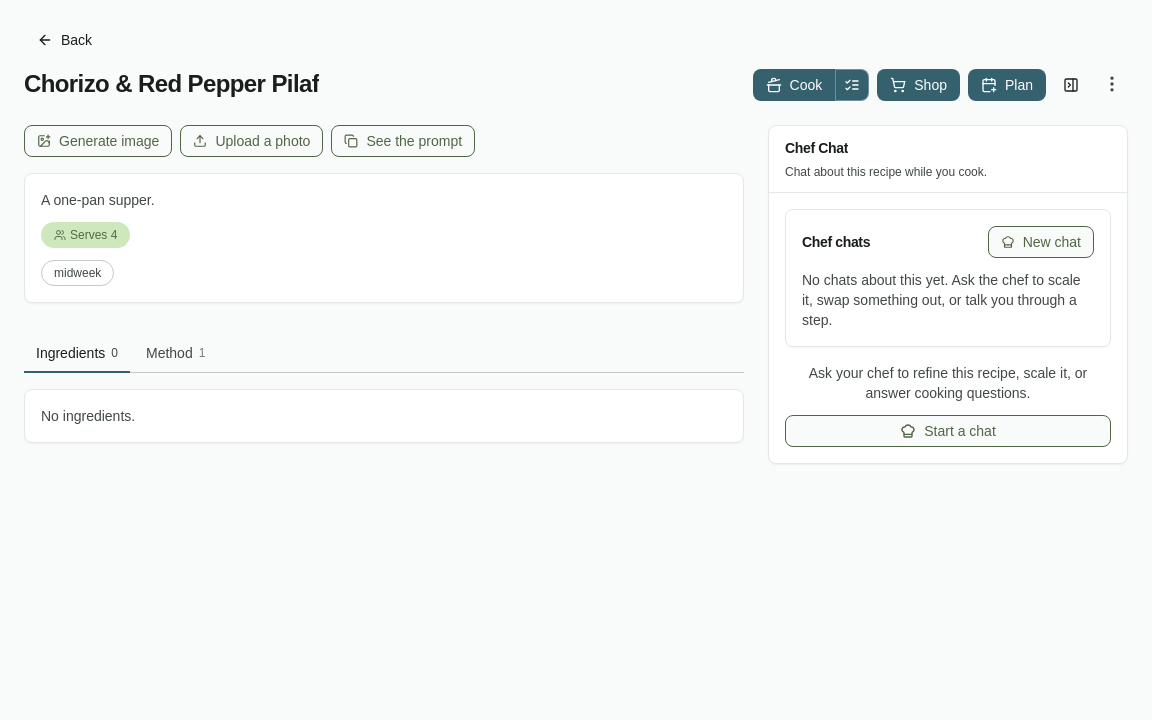
Test: RecipeViewPage — Refresh asks the chef, then proposes › discarding leaves the recipe exactly as it was, and keeps the plan
This screenshot has width=1152, height=720.
Click the button with test id "recipe-actions-overflow": (1112, 84) x1=1096 y1=68 x2=1128 y2=100
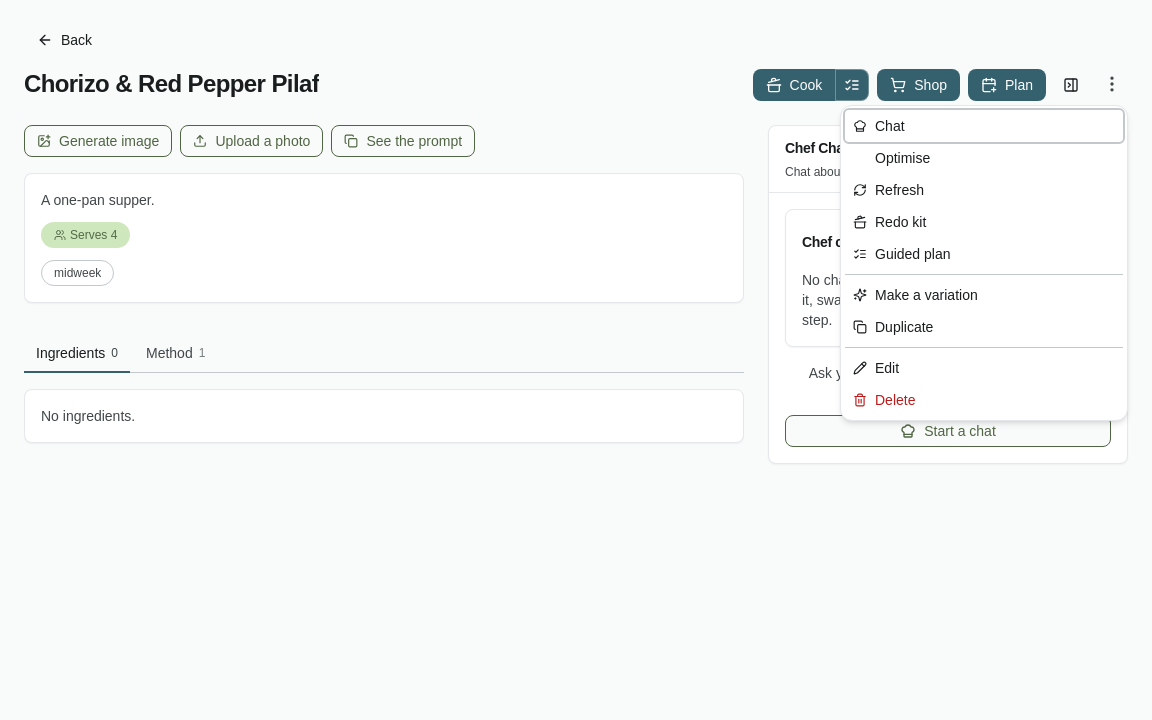
Expected: the button with test id "recipe-refresh-menu-item" is shown
Click the button with test id "recipe-refresh-menu-item": (900, 190) x1=845 y1=174 x2=1123 y2=206
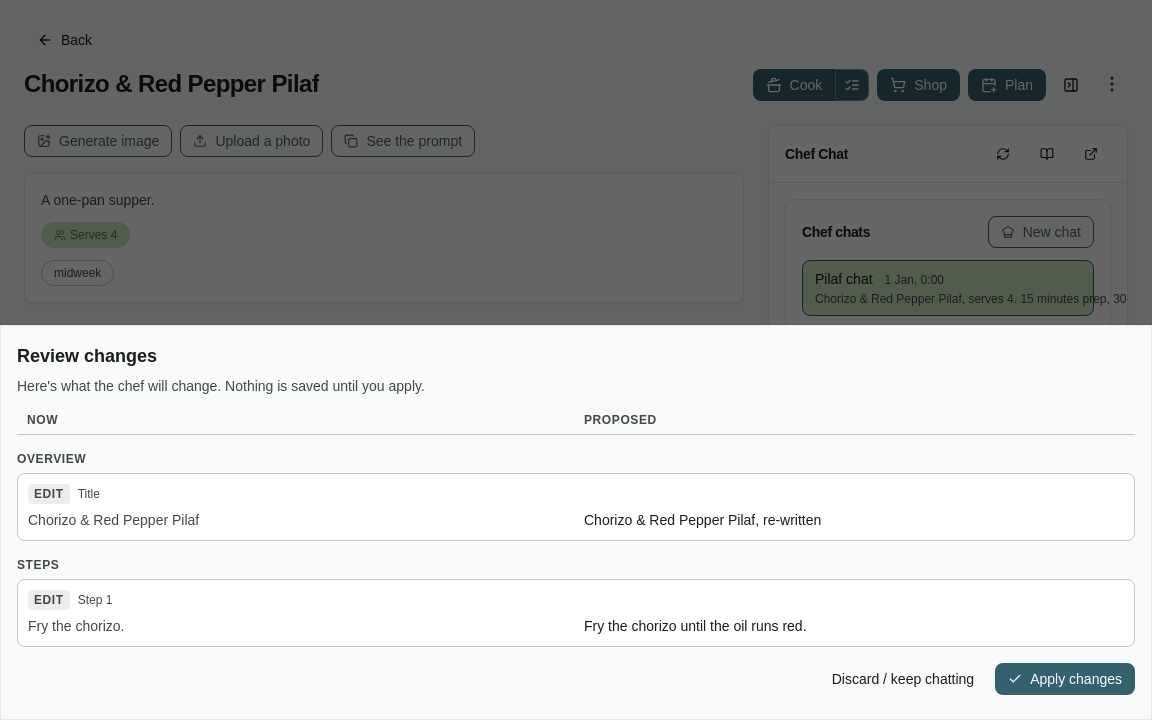
Expected: the element with test id "recipe-change-summary" is shown, x1=17 y1=412 x2=1135 y2=647
Click the button with test id "recipe-change-discard": (903, 679) x1=819 y1=663 x2=987 y2=695
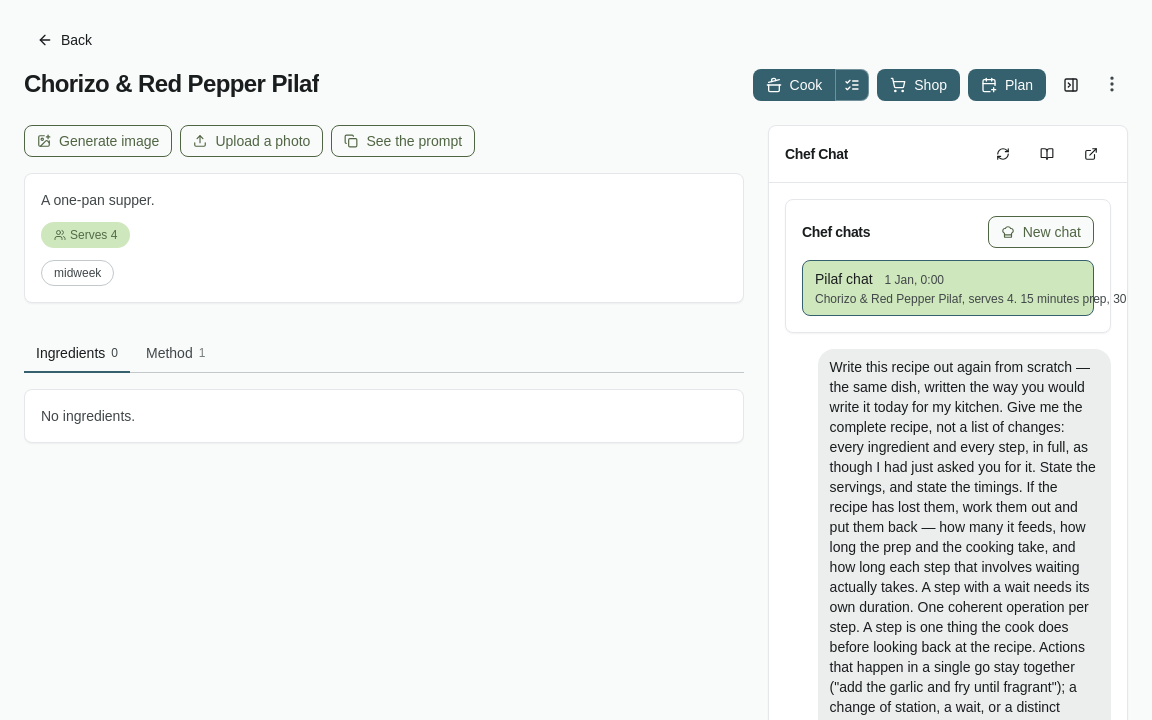
Expected: the element with test id "recipe-change-summary" is gone
